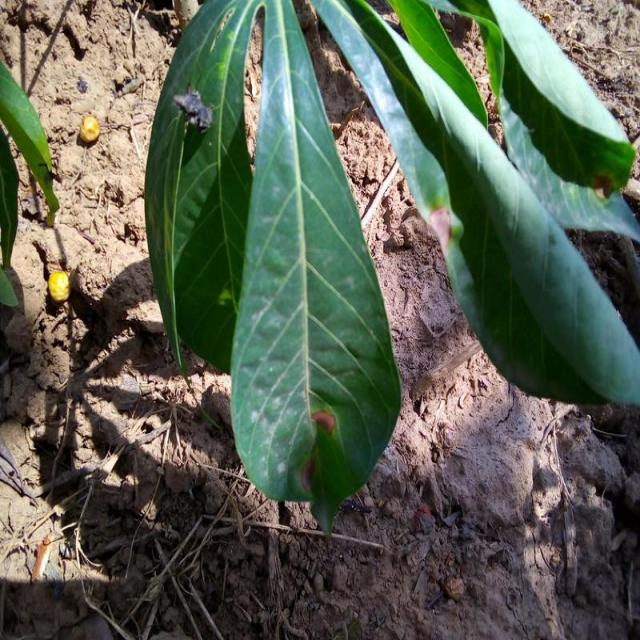cassava leaf: (307, 0, 638, 407), (227, 0, 402, 533)
